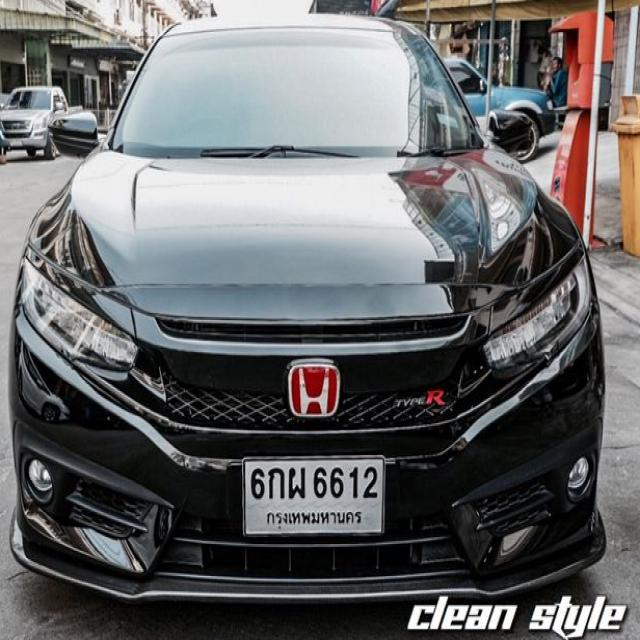license_plate: (236, 452, 391, 543)
